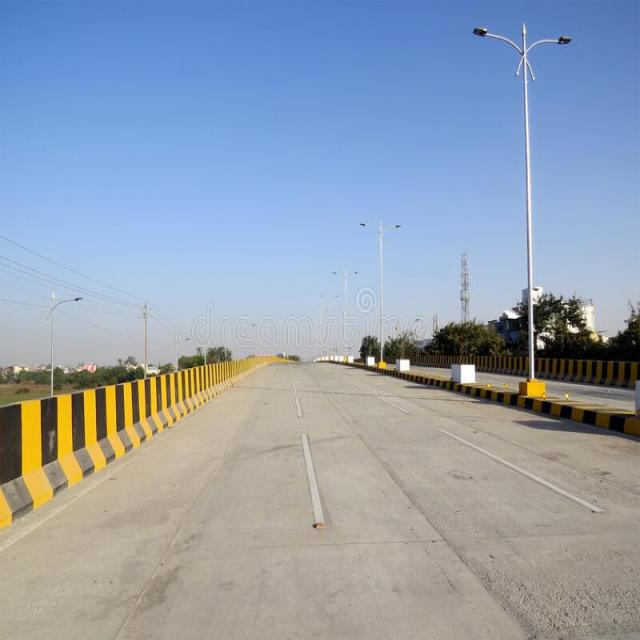Clean road: (0, 353, 640, 640)
